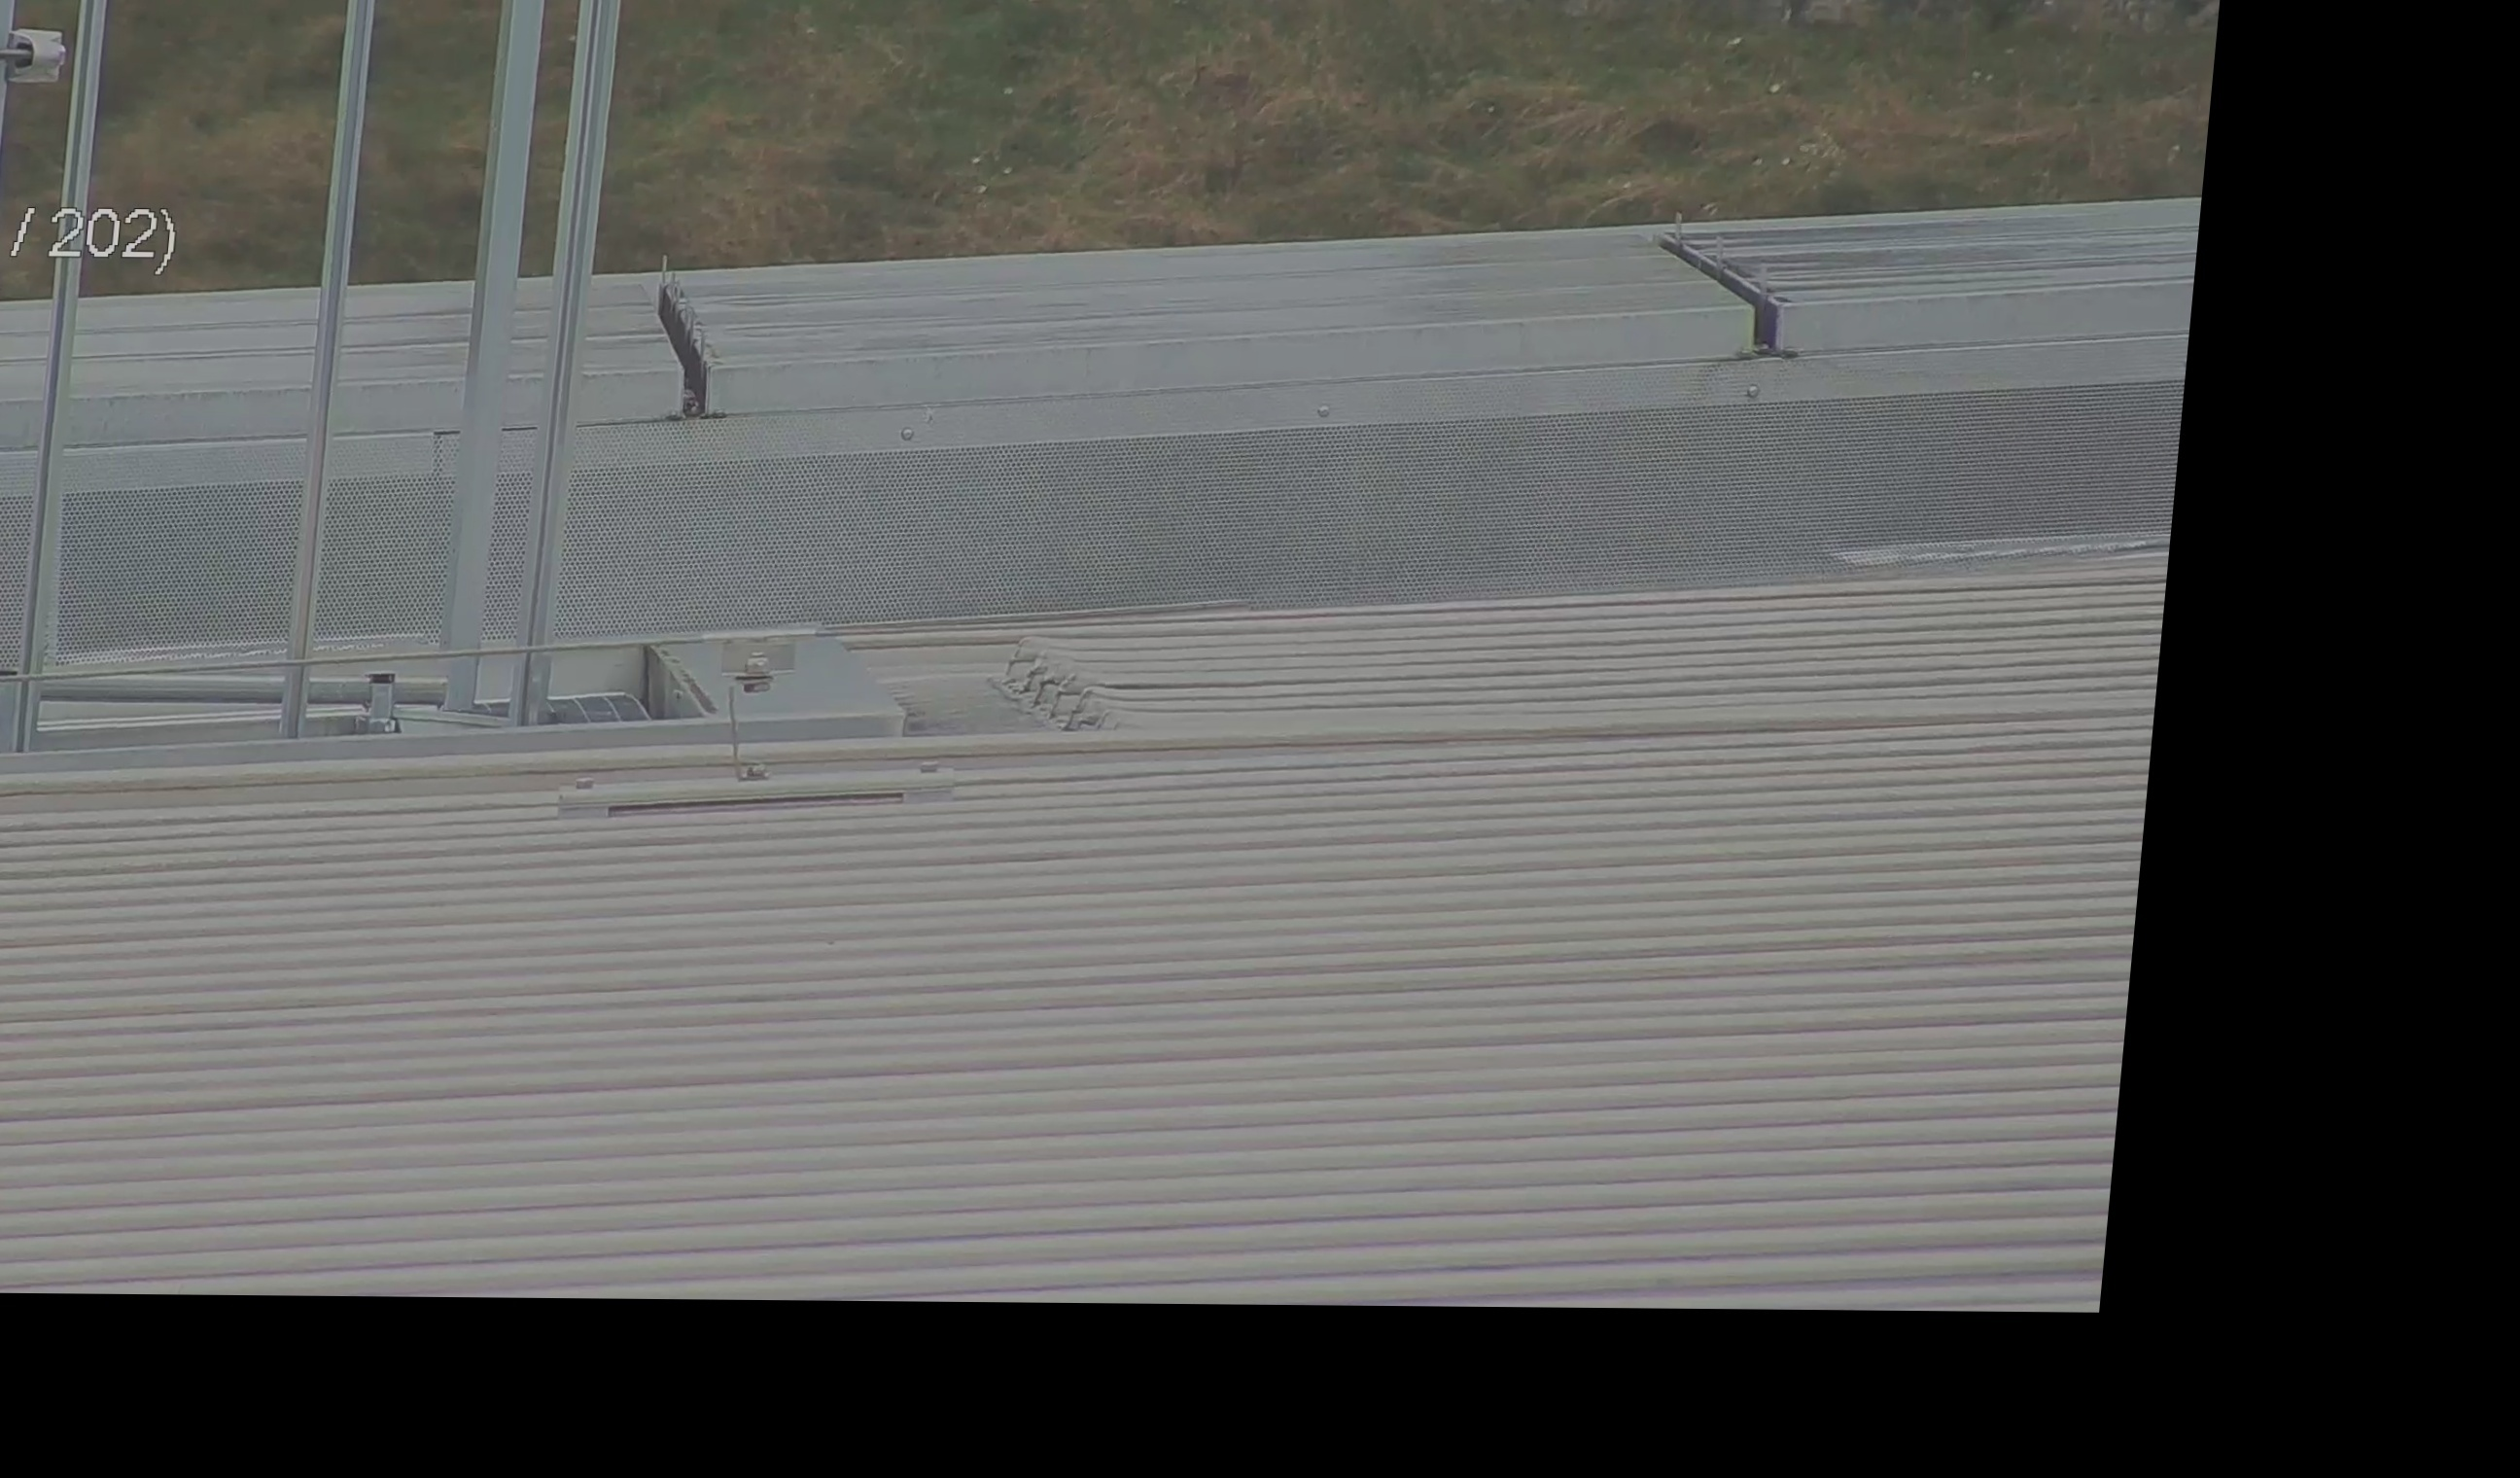Other: (626, 257, 742, 417)
